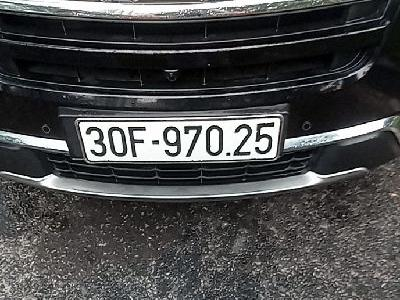lisence: (74, 113, 284, 166)
